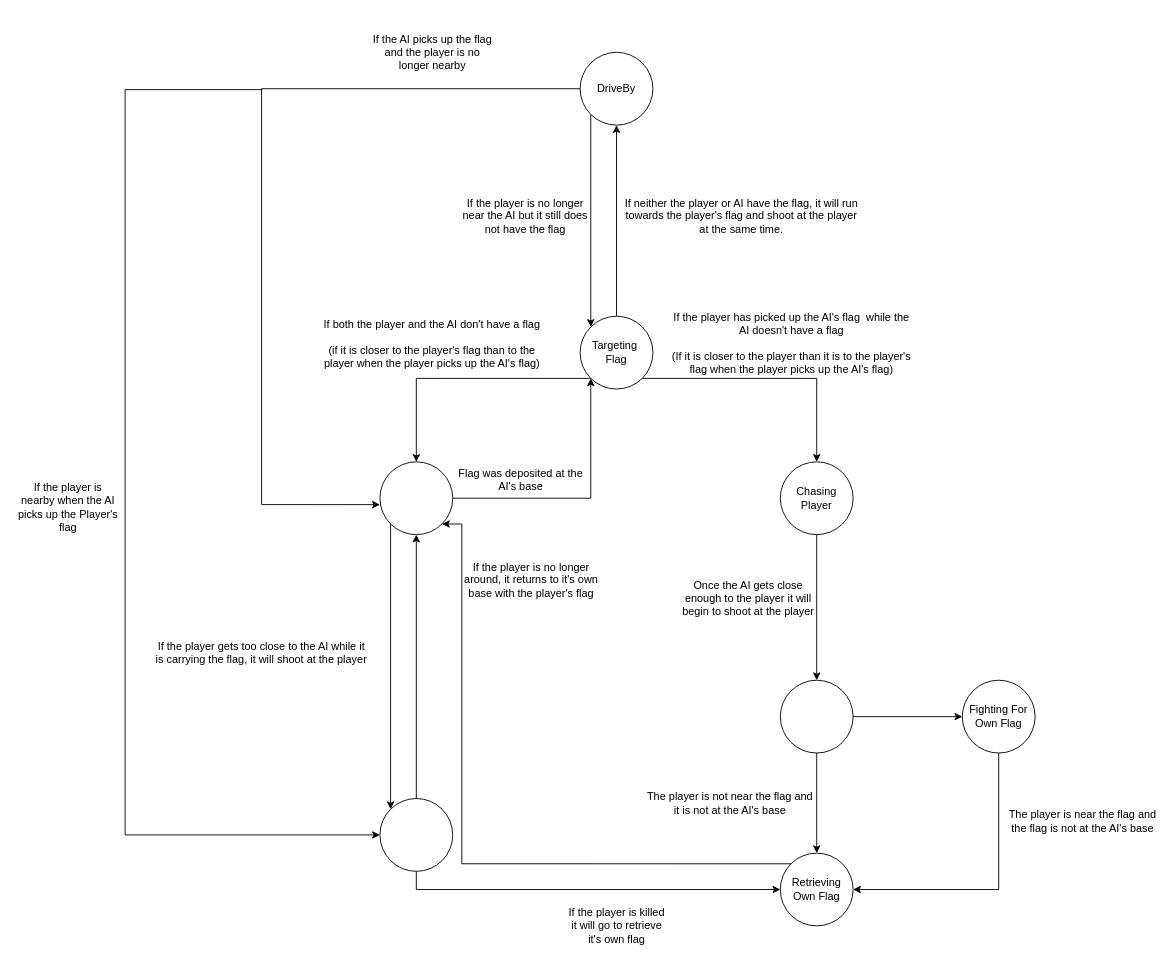
The diagram is 1173 pixels wide and 977 high, and some of its shapes have lost their labels. The shapes that lost their labels are listed below. From the top down, each one's centre as x and y in pixels, then its label:
At point (416, 498): "Retrieving Flag".
At point (816, 716): "Targeting Player".
At point (416, 834): "Running From Player".
